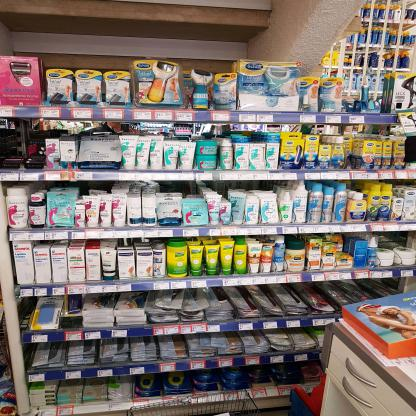Void: (2, 127, 42, 169)
